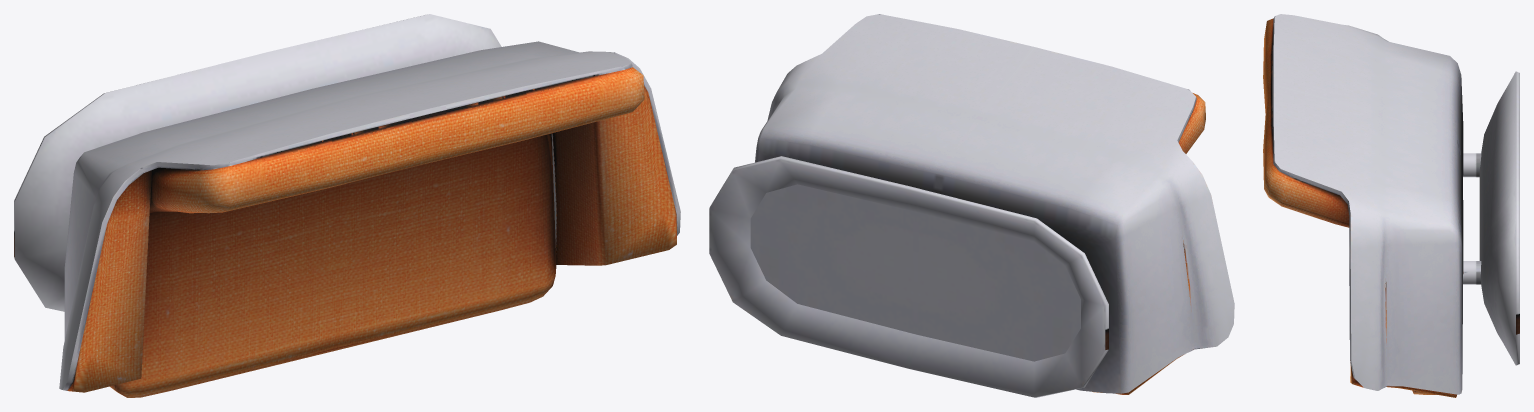
File: nt_2020_space_couch_LOD1.obj
The picture shows the model from 3 angles, left to right: view 1: azimuth 30°, elevation 25°; view 2: azimuth 150°, elevation 25°; view 3: azimuth 270°, elevation 25°; orthographic projection. The views are drawn at different scales.
Parts seen in each view (by area): view 1: mtl_nt_2020_space_couch; view 2: mtl_nt_2020_space_couch; view 3: mtl_nt_2020_space_couch.
Part boxes in pixels (<box>): mtl_nt_2020_space_couch: <box>14,14,680,397</box>; mtl_nt_2020_space_couch: <box>709,14,1234,397</box>; mtl_nt_2020_space_couch: <box>1263,14,1519,397</box>.
Bounding box in the file's own units: 206 × 100 × 98.67.
